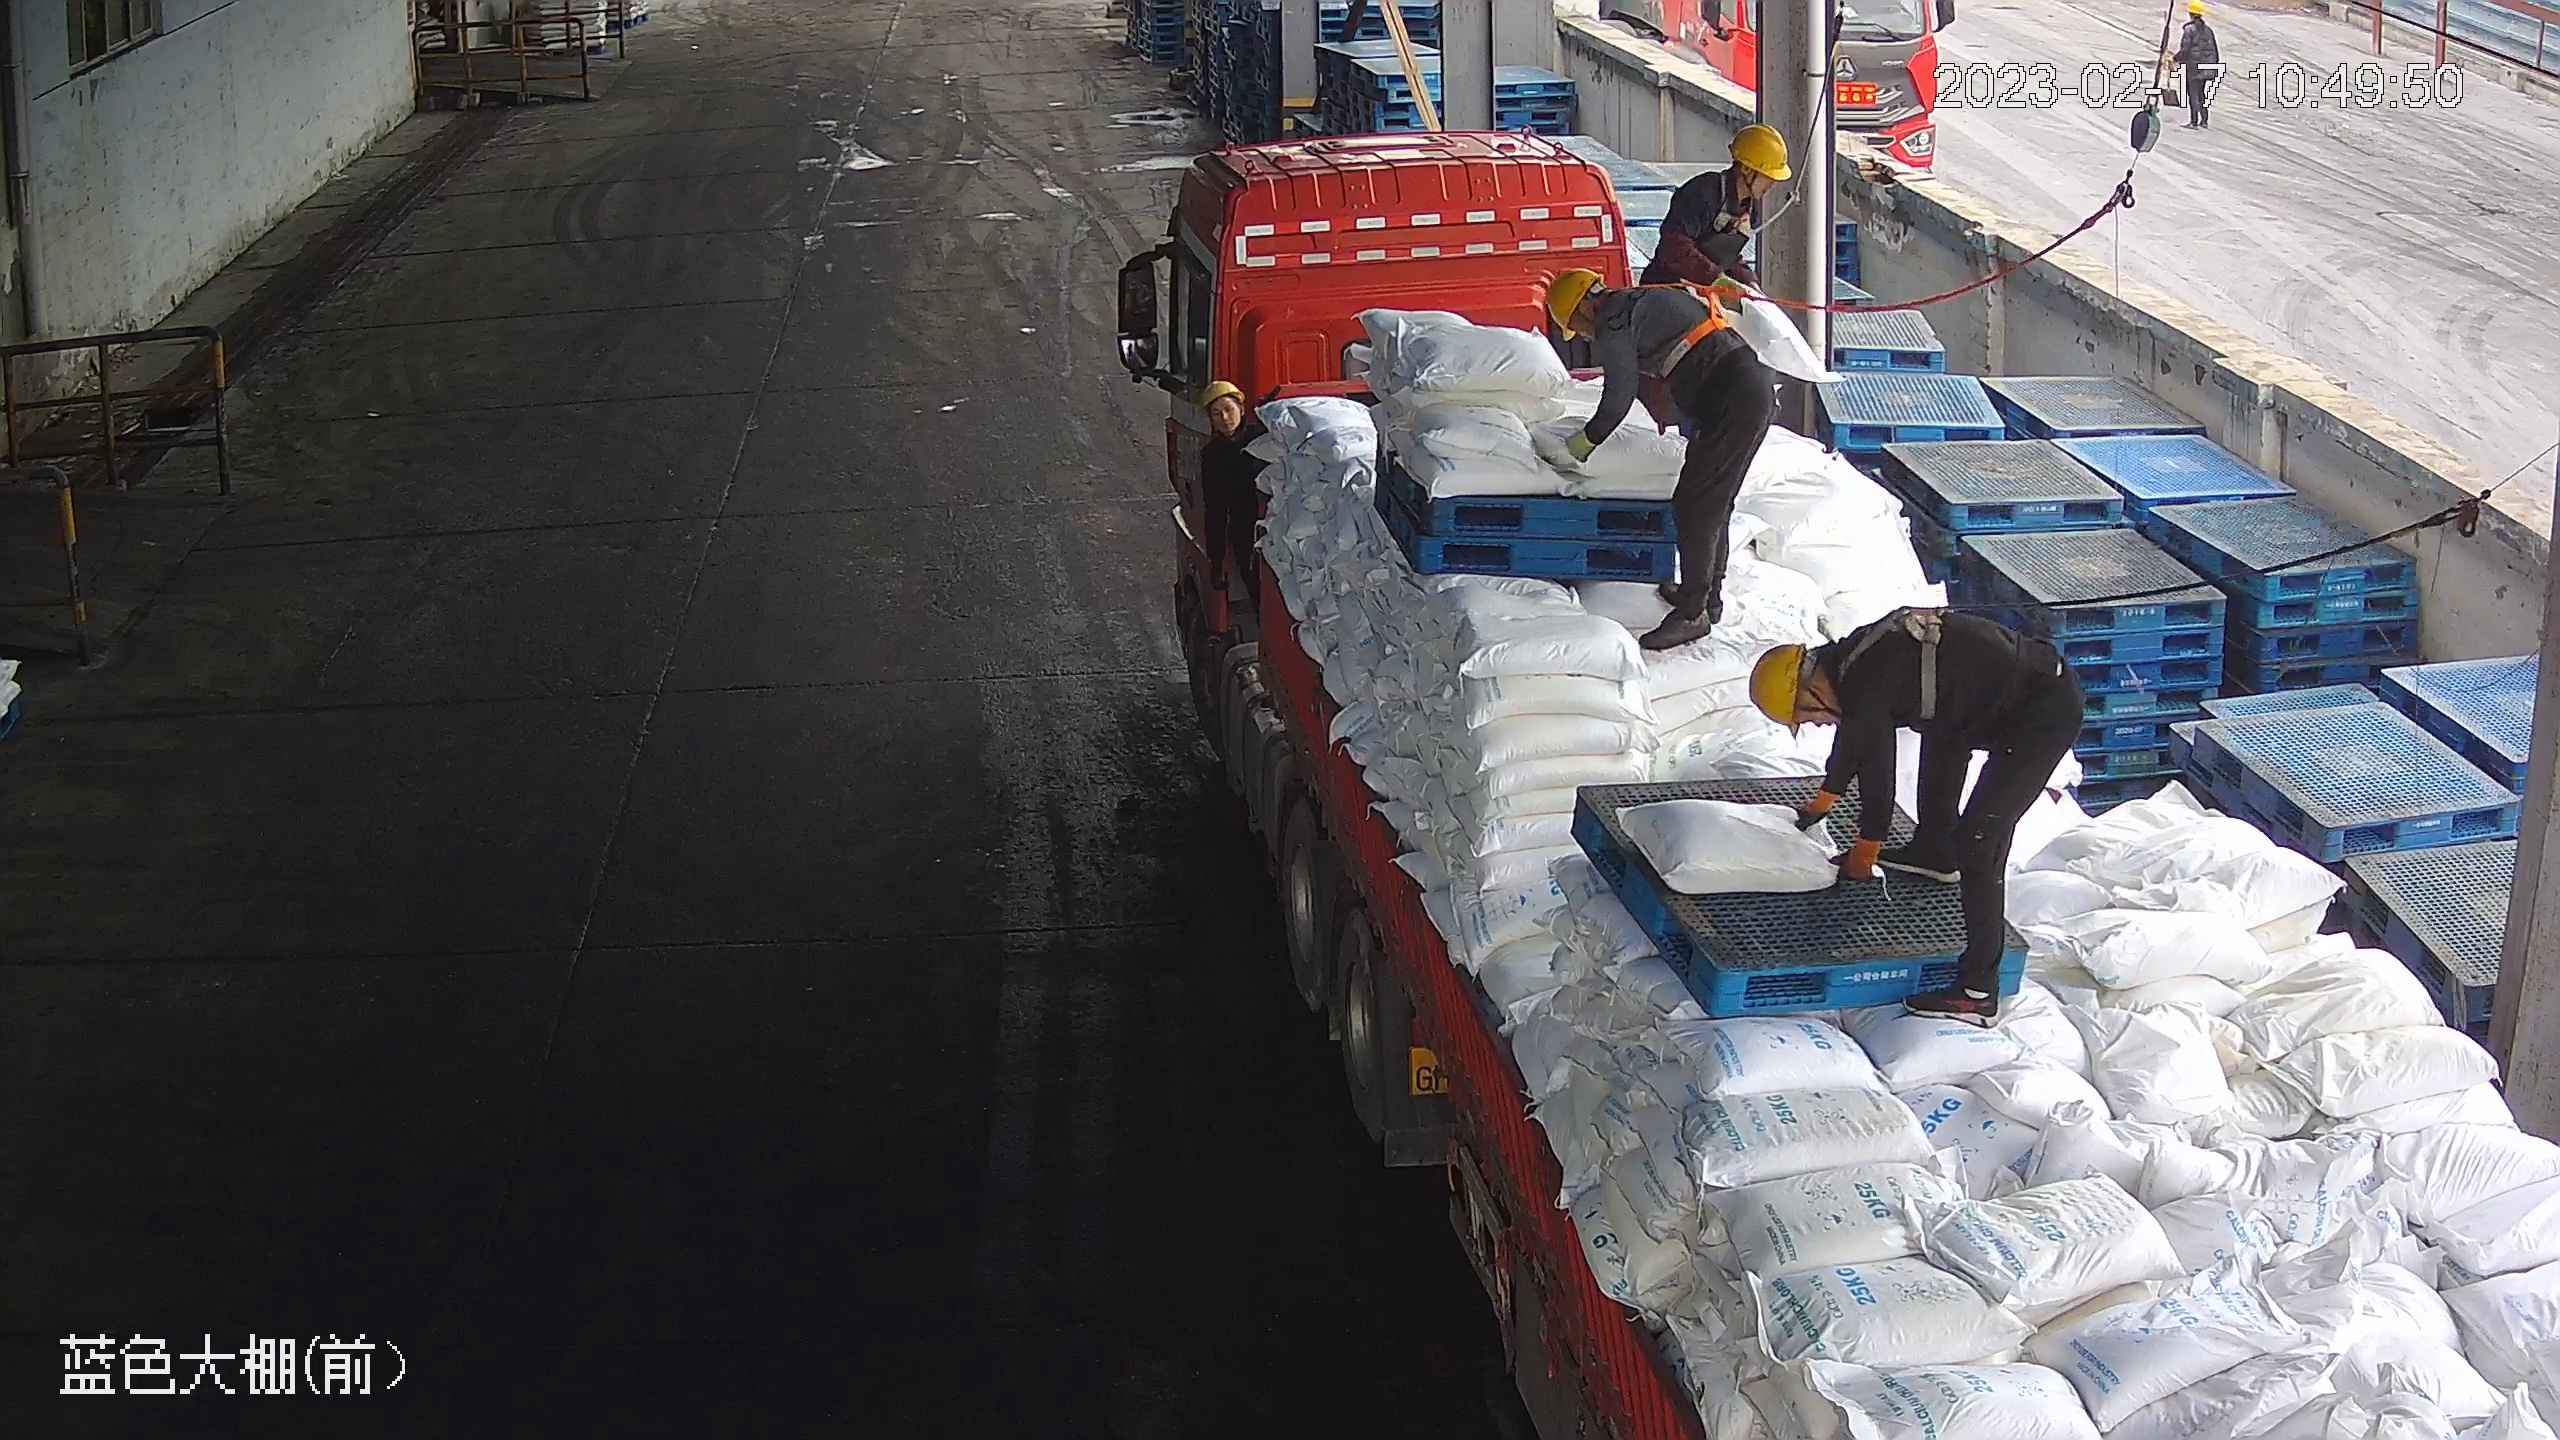belt: (1832, 602, 1984, 719), (1611, 275, 1730, 376), (1709, 168, 1785, 244)
head: (1744, 626, 1925, 744), (1542, 266, 1682, 361), (1668, 120, 1795, 220)
helmet: (1747, 642, 1808, 733), (1542, 267, 1604, 343), (1729, 122, 1793, 183), (1201, 379, 1240, 420)
people: (1744, 608, 2084, 1026), (1543, 257, 1771, 650), (1638, 124, 1795, 374)
truck: (1111, 123, 2560, 1440)
